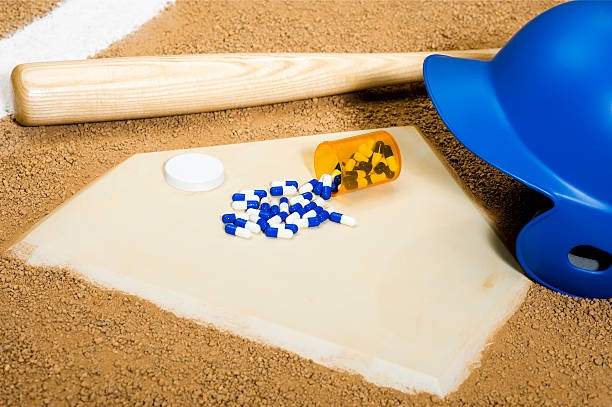bita: (8, 38, 506, 136)
